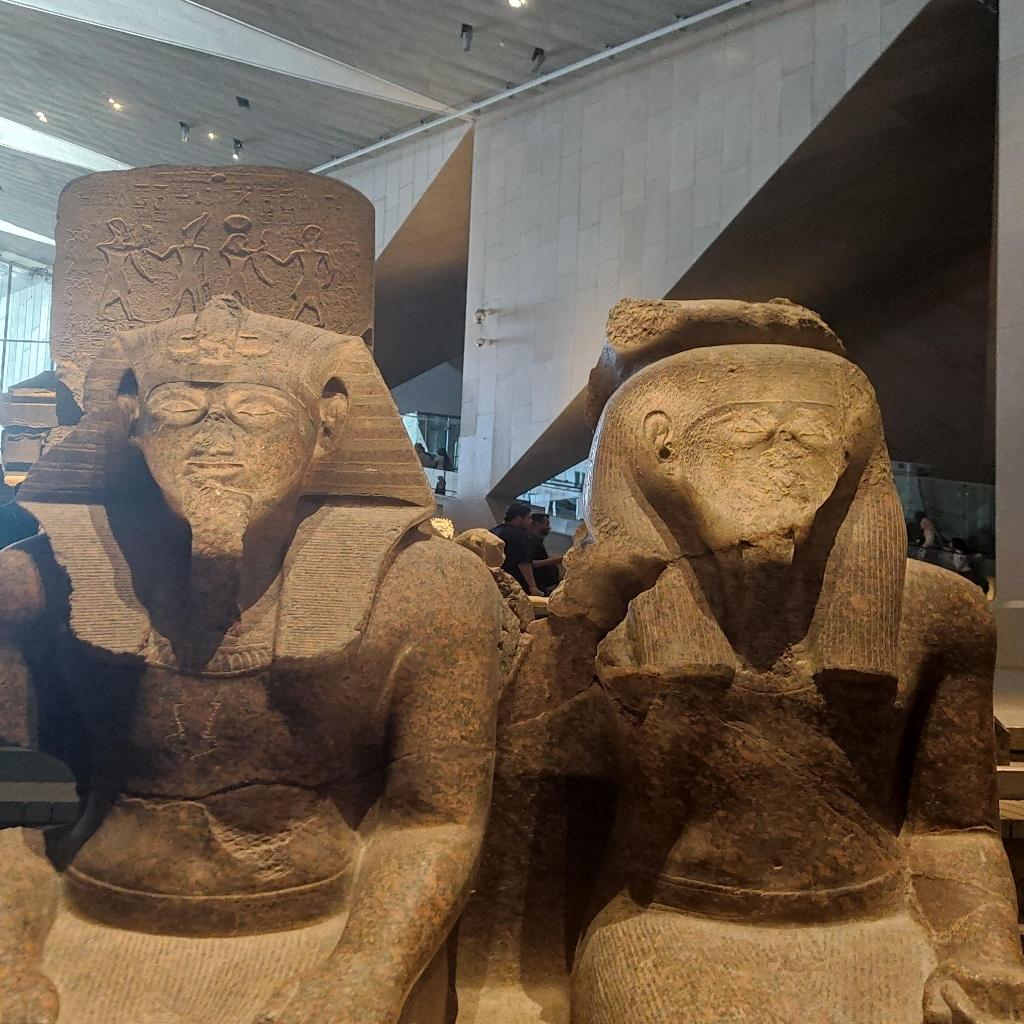Seated Statue of Ramesses II and God Ptah: (27, 285, 992, 1024)
